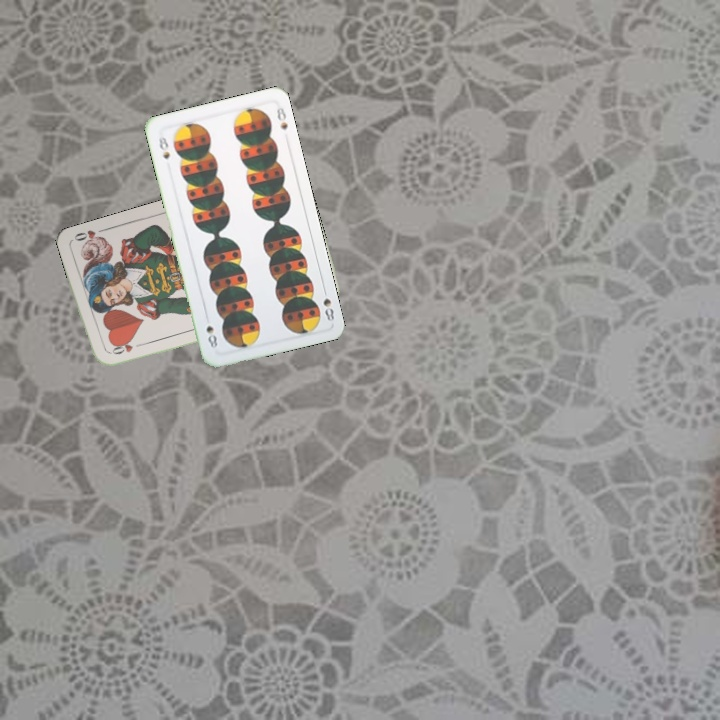HO: (104, 339, 144, 357)
S8: (319, 284, 337, 324), (155, 133, 172, 161)
